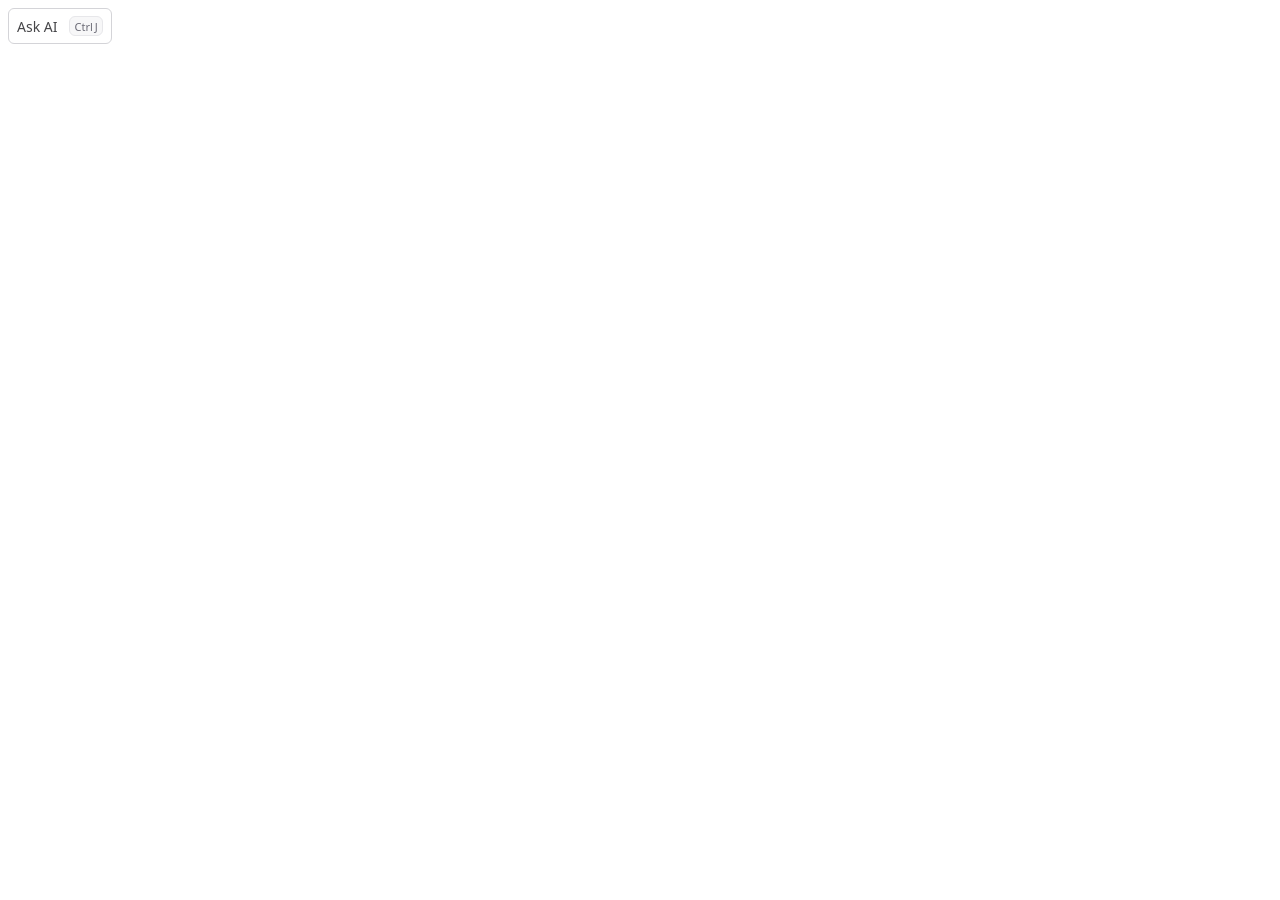
Test: recovers from a failed answer
Later steps or results of the test are not shown.
Click the button "Ask AI Ctrl J": x=60, y=26 [8, 8, 112, 44]
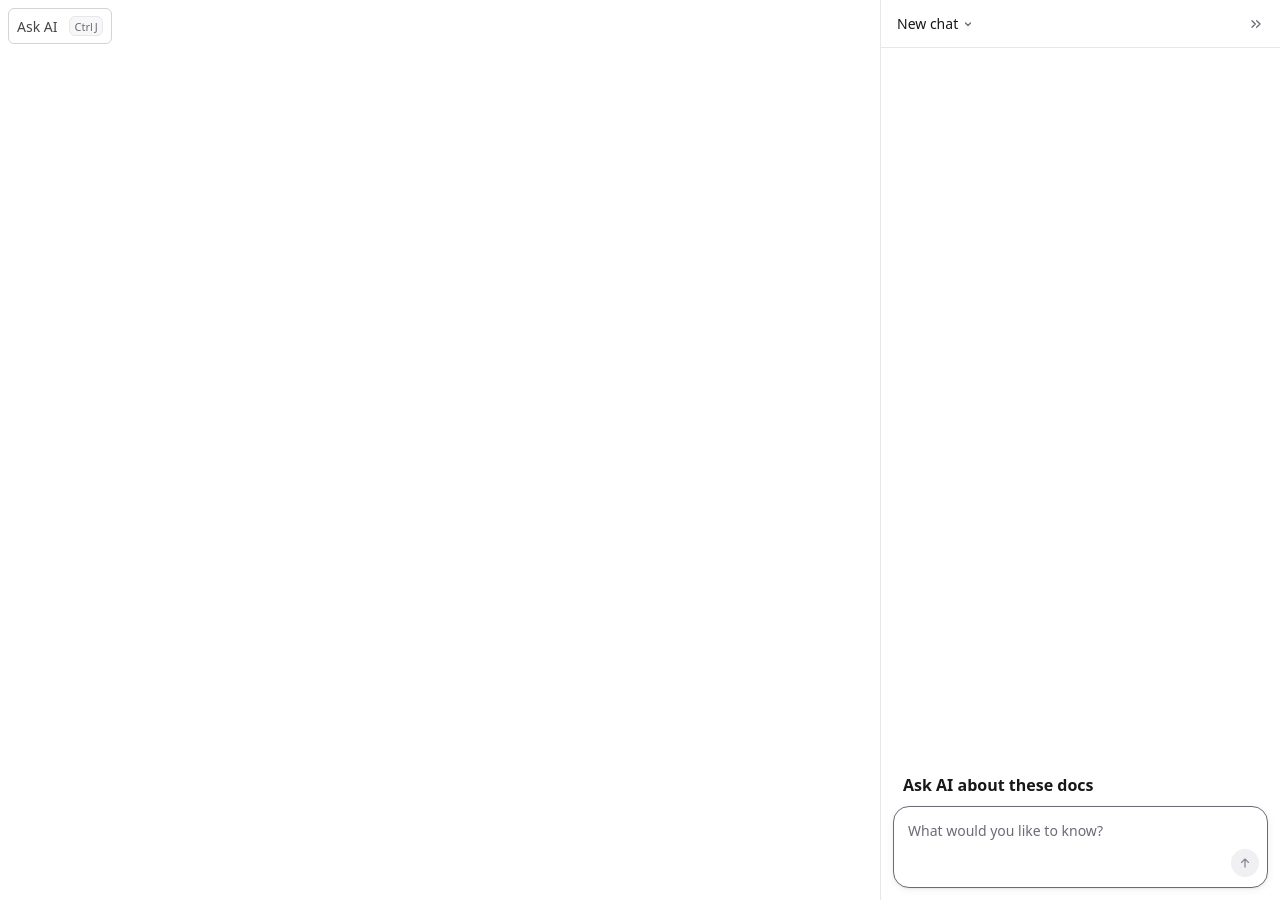
Type keys "Hello?{Enter}"
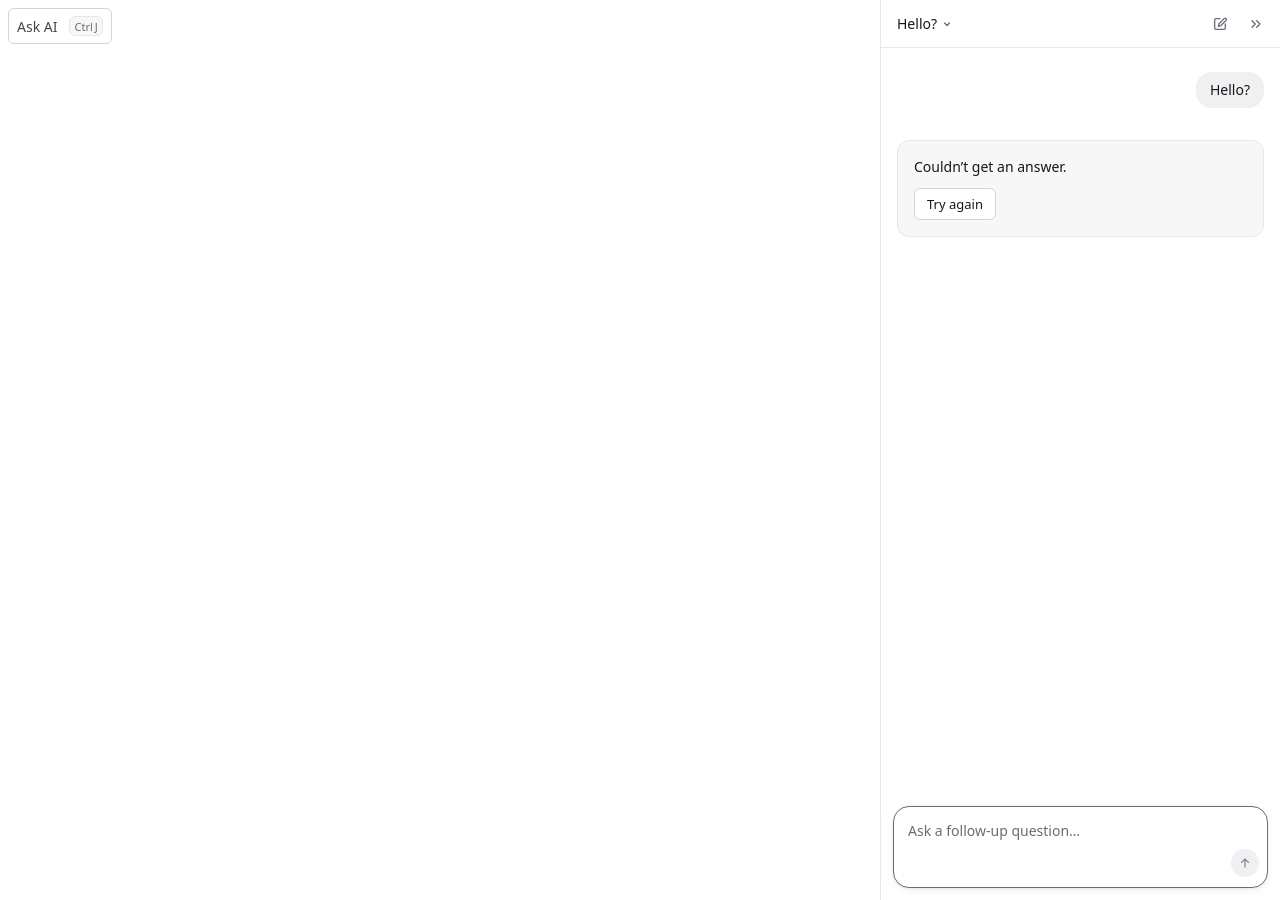
Check: the message reads "Couldn’t get an answer. Try again", box [897, 140, 1264, 237]
